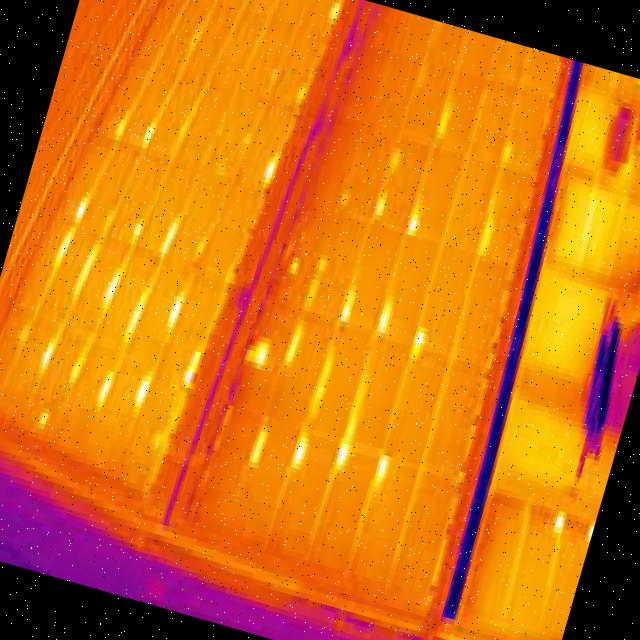Hotspot: (44, 180, 96, 280), (55, 326, 98, 402), (64, 236, 104, 317), (90, 248, 130, 328), (340, 355, 378, 435), (297, 240, 336, 316), (154, 274, 192, 352), (302, 339, 339, 417), (30, 313, 70, 384), (250, 138, 291, 206), (116, 278, 154, 351), (364, 289, 404, 352), (467, 198, 502, 269), (122, 358, 160, 422), (276, 419, 314, 478), (154, 198, 188, 262), (276, 314, 308, 375), (428, 91, 460, 149), (366, 444, 400, 498), (238, 418, 272, 472), (104, 102, 137, 154), (236, 330, 273, 376), (397, 198, 431, 248), (176, 338, 207, 390), (324, 429, 356, 477), (90, 361, 120, 412), (336, 281, 364, 328), (366, 185, 394, 232), (134, 116, 160, 160), (288, 70, 317, 108), (407, 318, 432, 360), (281, 248, 307, 288), (494, 128, 518, 170), (544, 502, 570, 540), (124, 210, 150, 248), (384, 140, 409, 176), (331, 180, 356, 216), (28, 404, 52, 440), (321, 0, 348, 30), (582, 512, 598, 548)
